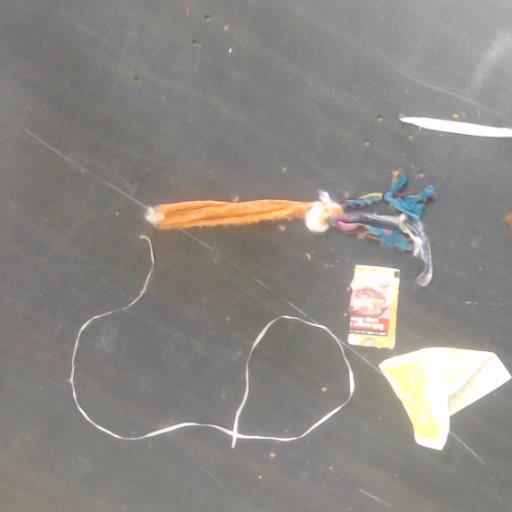cloth: (146, 173, 435, 286)
packet: (380, 347, 511, 450), (347, 265, 399, 349)
thread: (69, 234, 354, 447), (400, 117, 511, 137)
